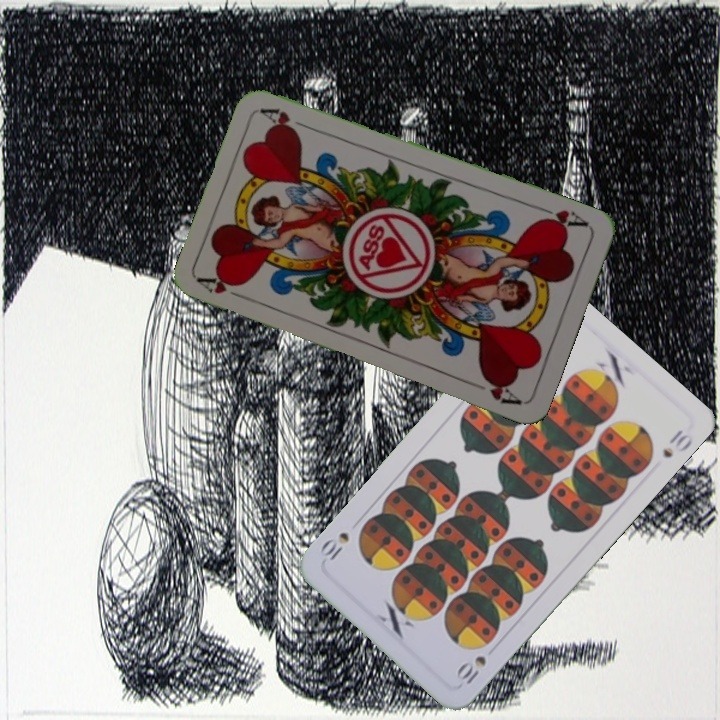HA: (195, 271, 253, 304), (533, 202, 591, 233)
S10: (452, 651, 489, 689)
